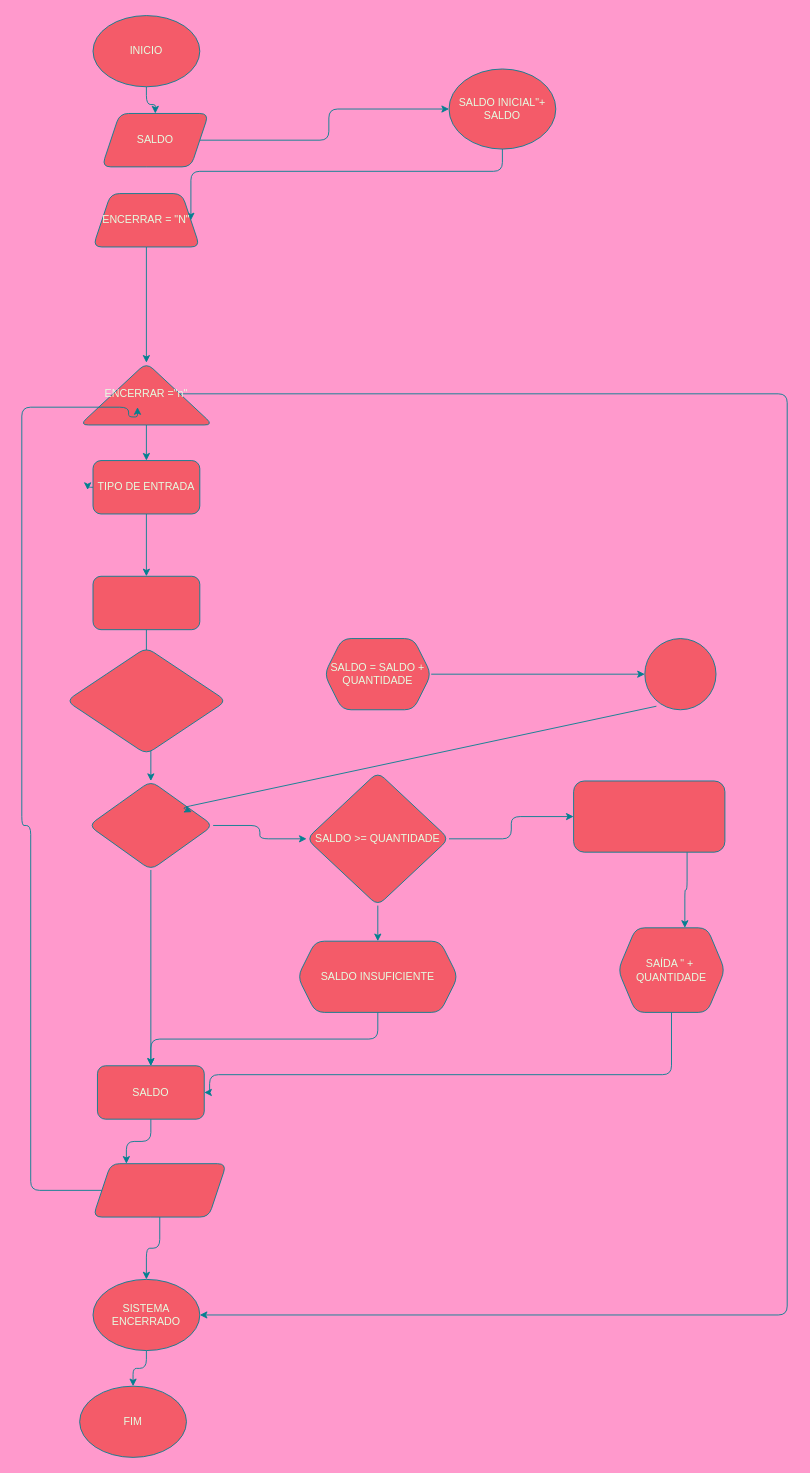
Some shapes in this 810 by 1473 pixel diagram are drawn without their labels. The centre of each missing label's shape, as x and y in pixels:
ENCERRAR ? (SIM): (159,1190)
ENTRADA + QUANTIDADE: (680,674)
QUANTIDADE: (146,602)
SALDO = SALDO - QUANTIDADE: (649,816)
TIPO ENTRADA =2: (150,825)
TIPODEENTRADA = 1: (146,700)
